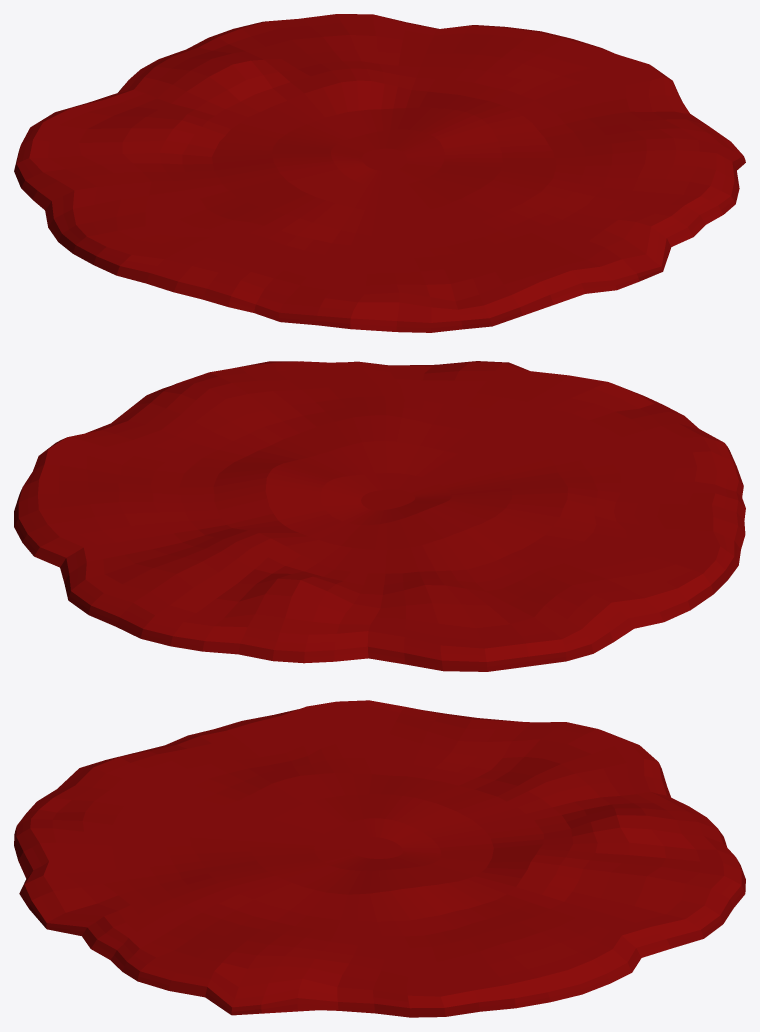
Rendered from Omacka.glb.
3 renders of one model, top to bottom at view 1: azimuth 30°, elevation 25°; view 2: azimuth 150°, elevation 25°; view 3: azimuth 270°, elevation 25°, orthographic. The views are drawn at different scales.
Parts seen in each view (by area): view 1: Omacka; view 2: Omacka; view 3: Omacka.
Part boxes in pixels (bbox=[...]): Omacka: bbox=[14, 14, 745, 332]; Omacka: bbox=[14, 361, 745, 671]; Omacka: bbox=[14, 700, 745, 1017].
Size of the model in its own units: 0.2152 by 0.0129 by 0.2162.
